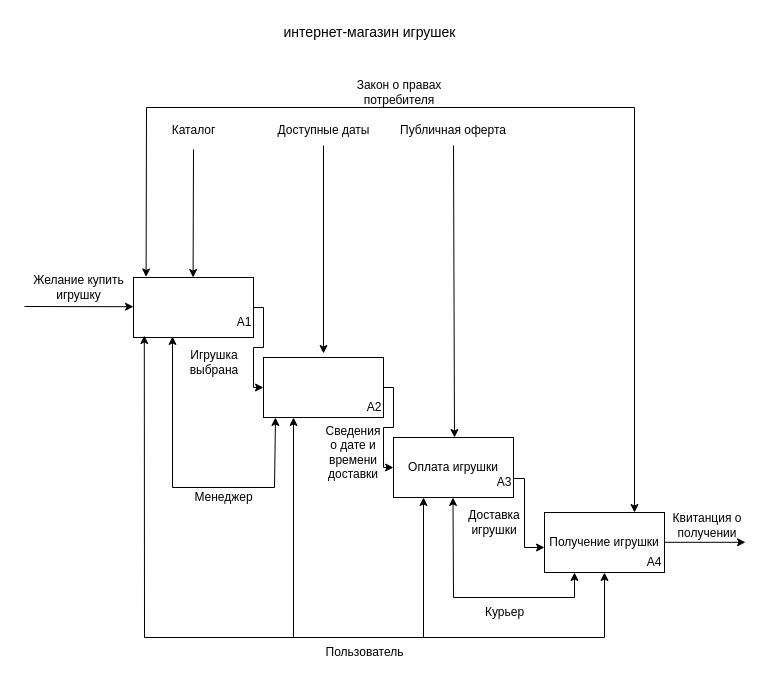
Some shapes in this 778 by 684 pixel diagram are drawn without their labels. The box of each missing label's shape, as (x1, y1, x2, y2) in pixels:
Выбор даты доставки: (262, 356, 384, 418)
Выбор игрушки: (132, 276, 254, 338)
